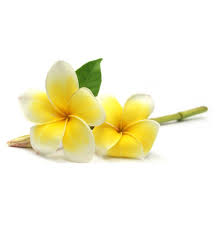frangipani: (19, 60, 103, 161)
